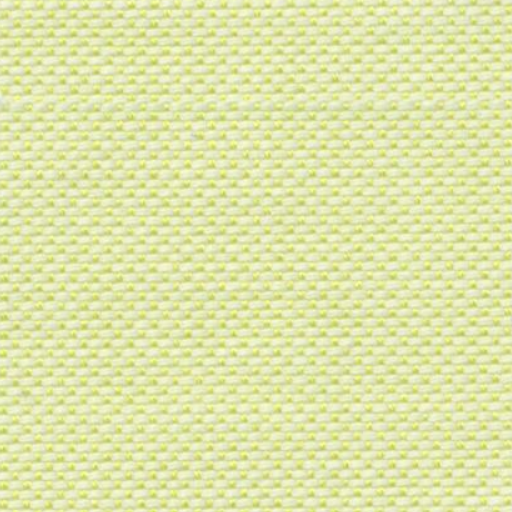TuoSha: (14, 67, 492, 138)
